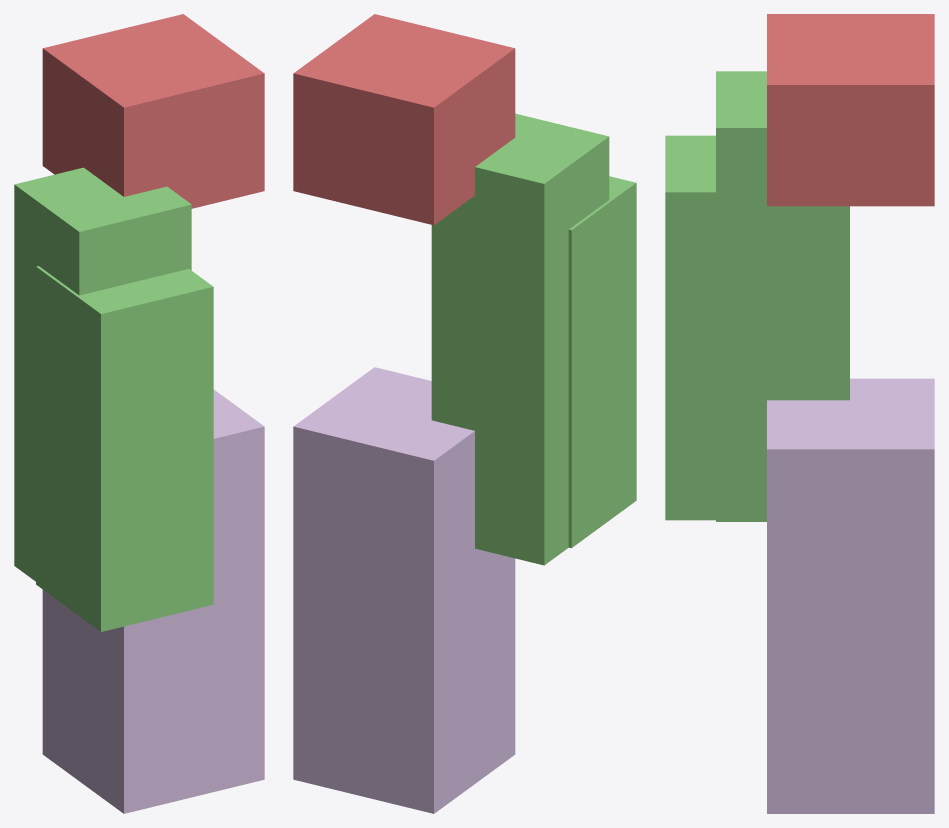
The model's file is Item_Herb_AMF_Barkbalm_Bundle1.glb.
3 views of the same model, side by side, from view 1: azimuth 30°, elevation 25°; view 2: azimuth 150°, elevation 25°; view 3: azimuth 270°, elevation 25° (orthographic). The views are drawn at different scales.
Parts seen in each view (by area): view 1: Item_Herb_AMF_Barkbalm_Bundle1; view 2: Item_Herb_AMF_Barkbalm_Bundle1; view 3: Item_Herb_AMF_Barkbalm_Bundle1.
Boxes of the visible parts, left/top/right/bottom form: Item_Herb_AMF_Barkbalm_Bundle1: left=14, top=14, right=264, bottom=813; Item_Herb_AMF_Barkbalm_Bundle1: left=293, top=14, right=636, bottom=813; Item_Herb_AMF_Barkbalm_Bundle1: left=665, top=14, right=934, bottom=813.
Bounding box in the file's own units: 0.0756 × 0.24 × 0.0803.
